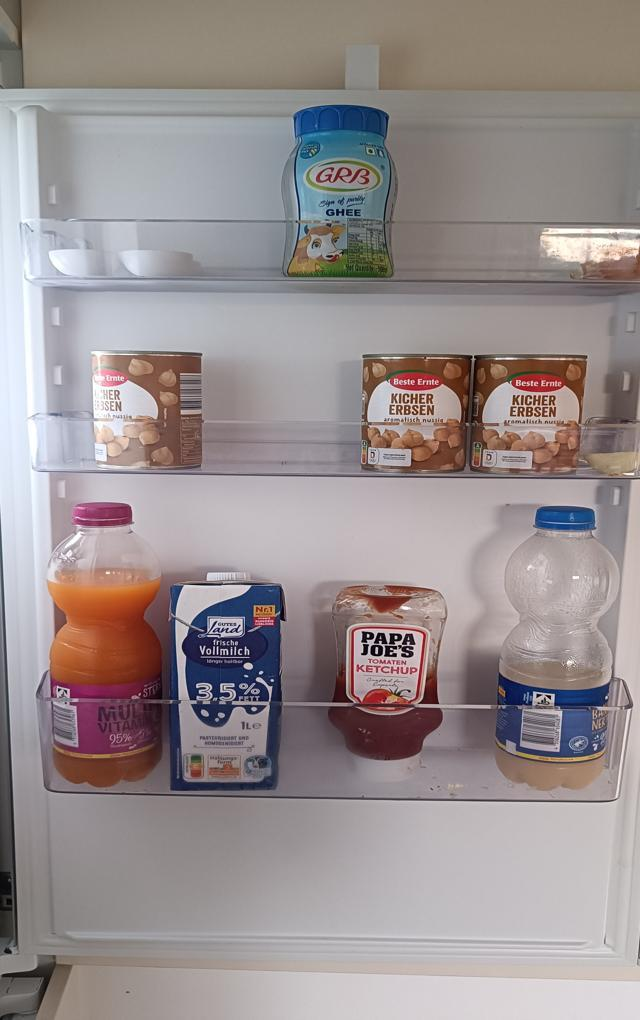bananajuice: (495, 505, 619, 792)
chickpeas: (91, 349, 204, 472), (363, 351, 470, 477), (475, 354, 586, 475)
ghee: (280, 104, 401, 284)
milk: (169, 573, 285, 789)
orangejuice: (43, 502, 164, 788)
tomatoketchup: (332, 582, 444, 783)
